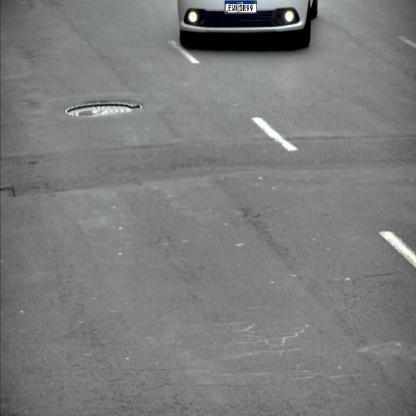PlacaM: (225, 1, 257, 13)
